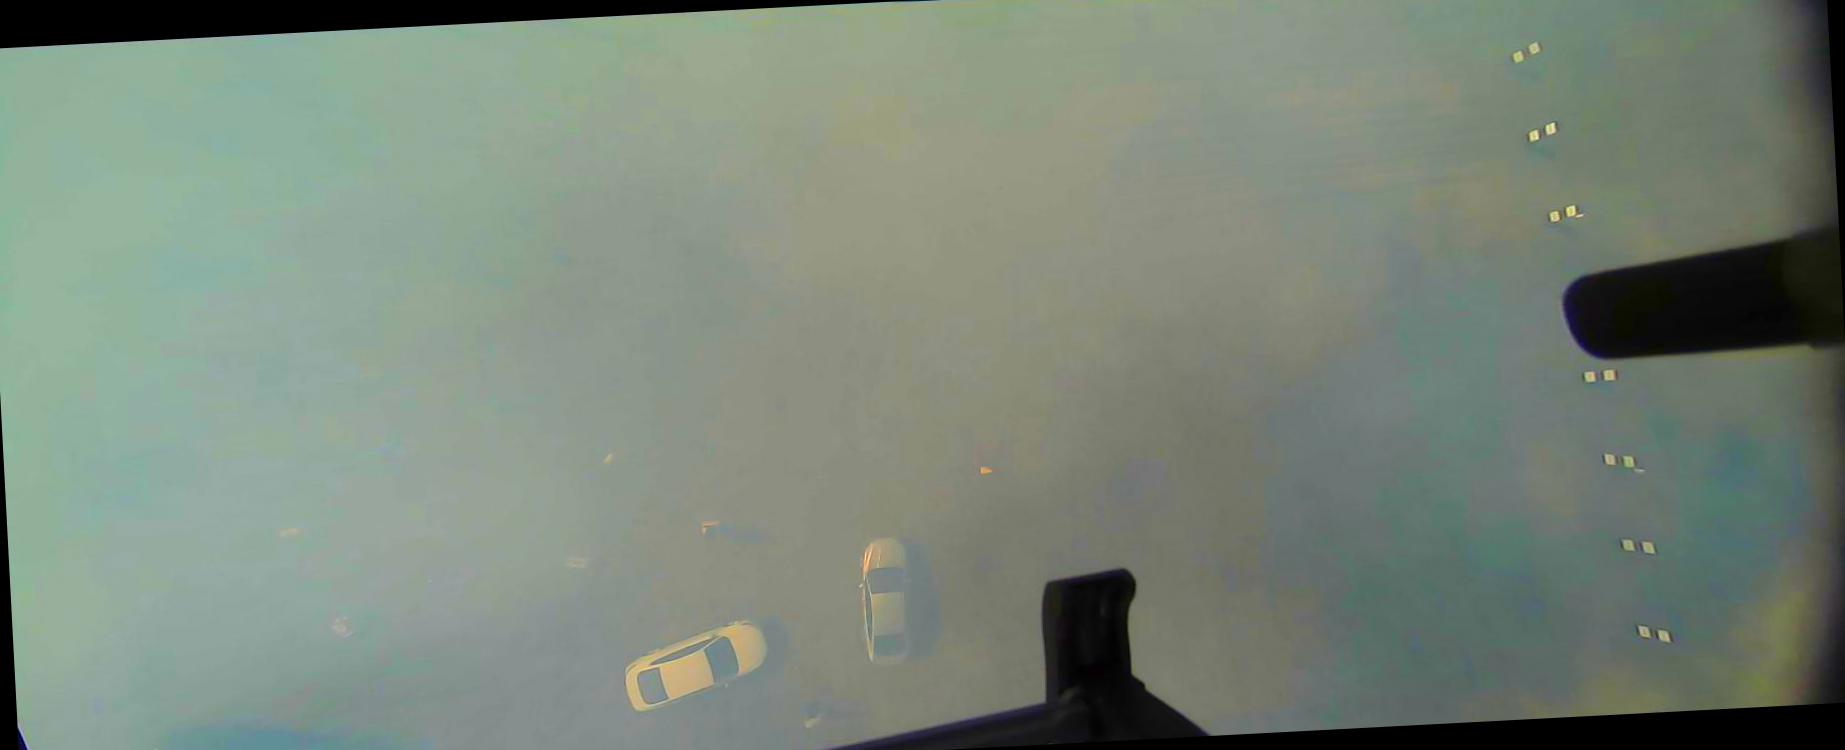vehicle: (621, 617, 771, 714), (854, 534, 916, 669), (143, 719, 327, 749)
